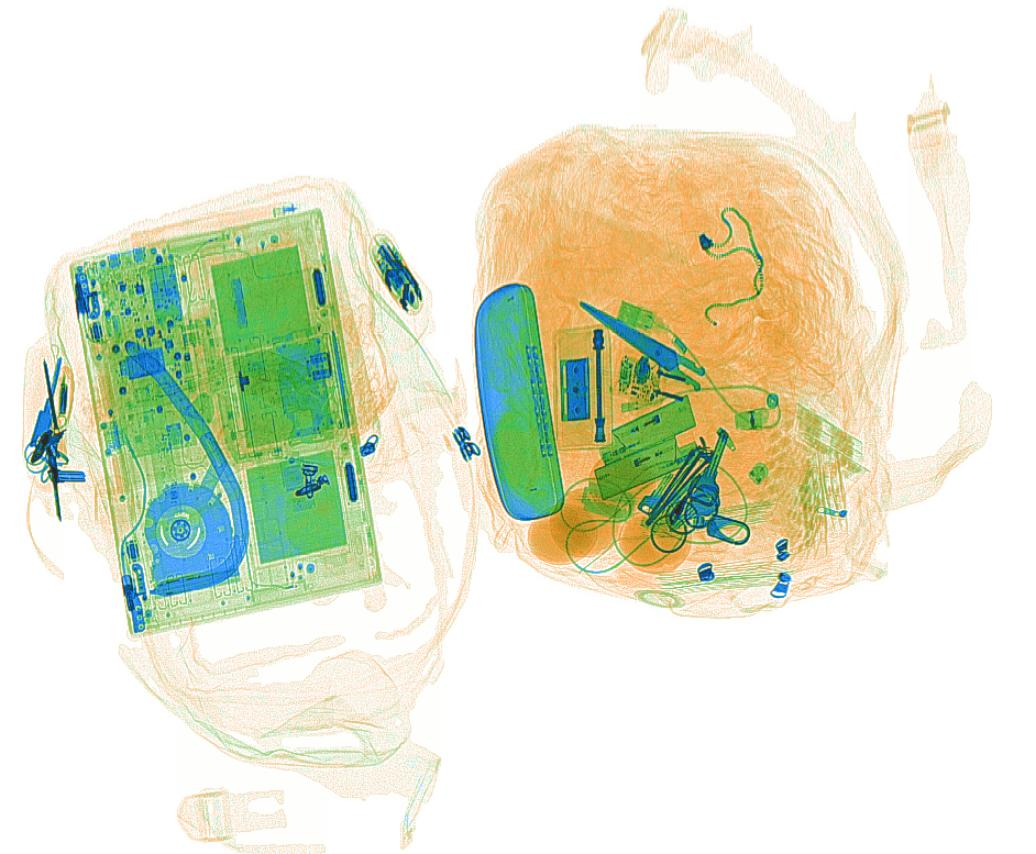knife: (581, 478, 636, 521)
lighter: (597, 391, 697, 473), (591, 428, 703, 499)
scissors: (576, 300, 770, 438)
